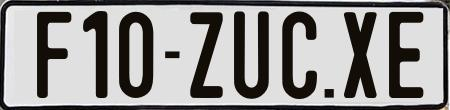0: (119, 12, 155, 104)
1: (83, 11, 109, 104)
C: (279, 11, 317, 99)
E: (387, 9, 427, 97)
F: (37, 11, 76, 103)
U: (231, 9, 268, 97)
X: (342, 12, 378, 101)
Z: (190, 10, 226, 100)
